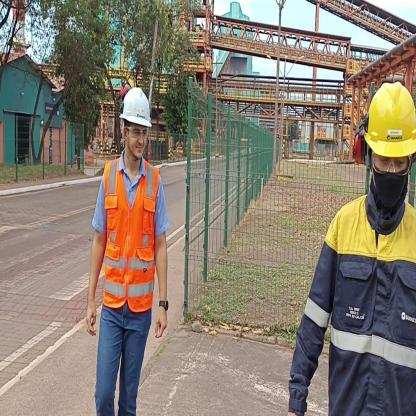Balaclava: (367, 147, 410, 219)
C_eletrica: (291, 192, 416, 416)
Capacete: (358, 76, 416, 157), (118, 86, 155, 128)
colete: (98, 156, 159, 314)
